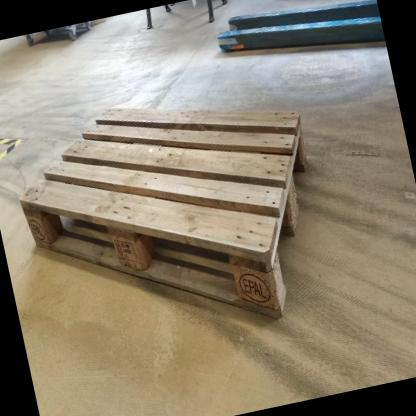BoxFace: (13, 99, 311, 325)
